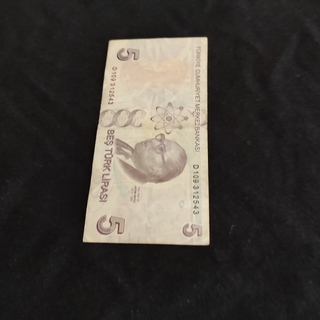5TLBack: (81, 36, 210, 246)
